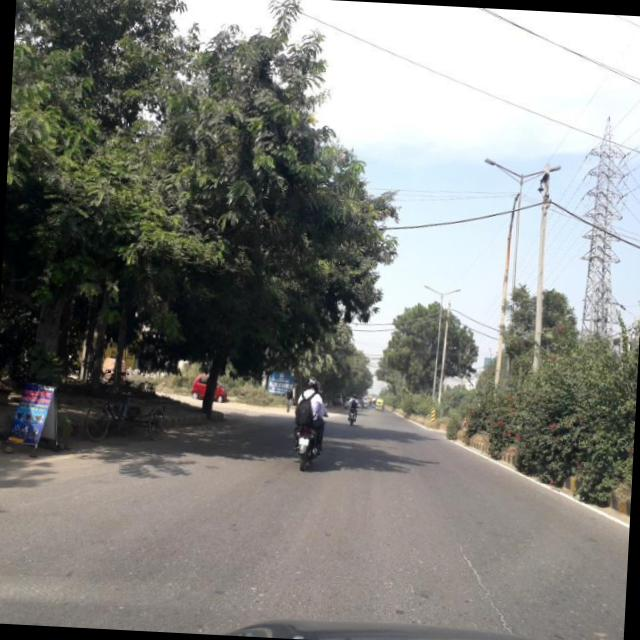crack: (444, 528, 516, 630)
